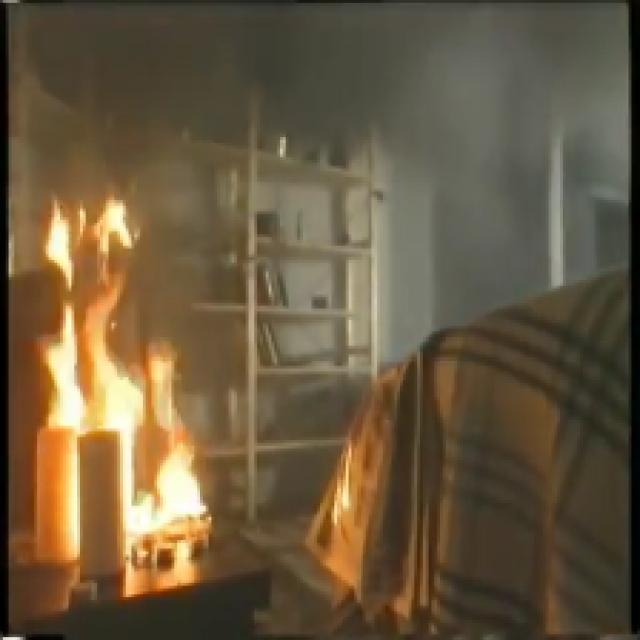Fire: (26, 217, 188, 579)
Smoke: (42, 16, 596, 128)
